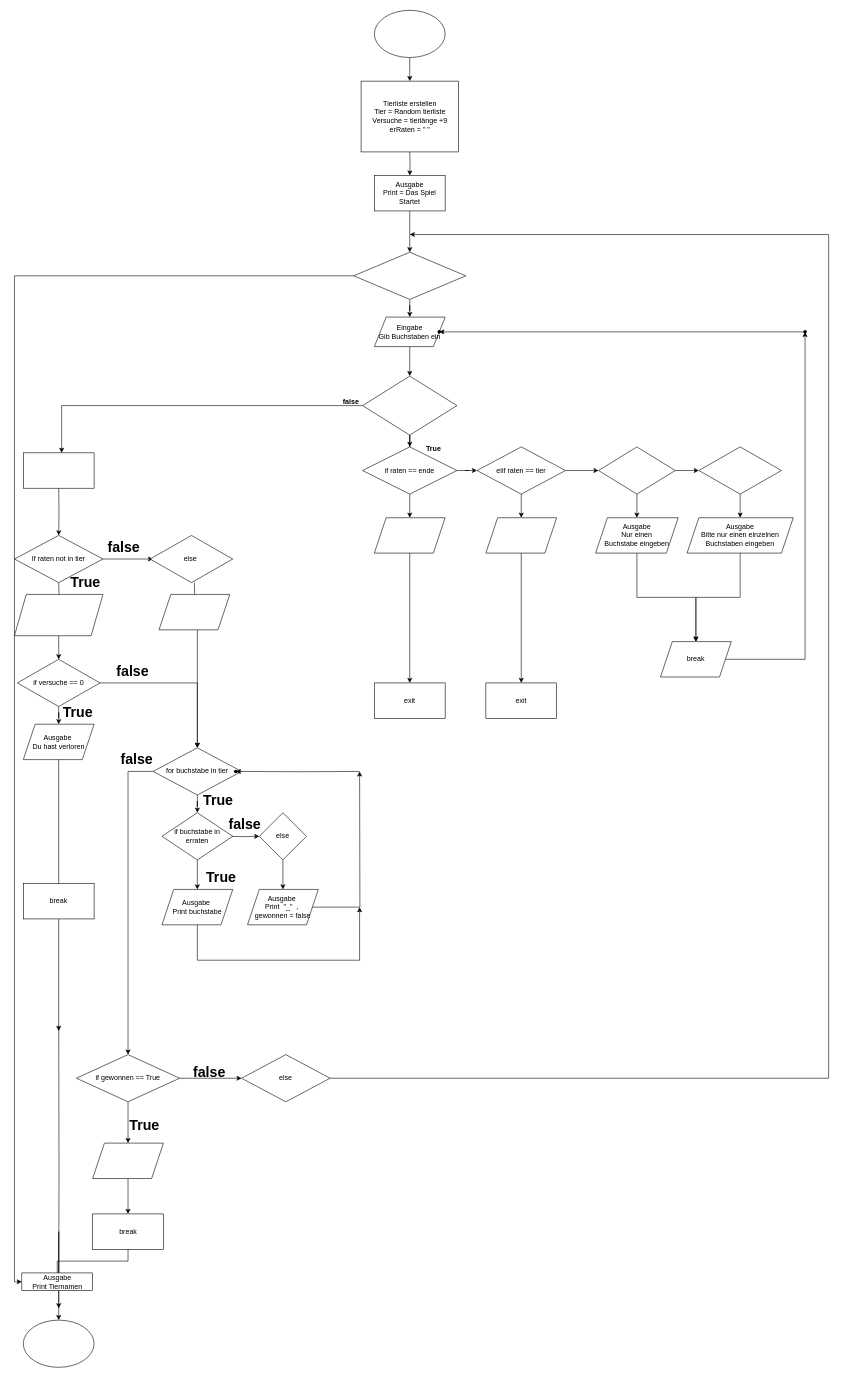
Image size: 844x1378. Some labels were removed from this diagram. The shapes that lost their labels are listed below. From the top down, each one's centre as x and y in pixels, then its label:
At pixel 409 34: "Start".
At pixel 409 275: "While versuche != 0".
At pixel 409 405: "While not alpha oder länger >1".
At pixel 58 470: "erraten = erraten + raten gewonnen = True".
At pixel 636 470: "elif not raten is alpha".
At pixel 739 470: "elif länge raten ist länger >1".
At pixel 409 535: "Ausgabe Ende".
At pixel 521 535: "Ausgabe Print Gewonnen".
At pixel 58 615: "Ausgabe versuche -= 1 Versuche es weiter".
At pixel 194 612: "Ausgabe Du hast richtig geraten".
At pixel 127 1161: "Ausgabe Du hast Gewonnen".
At pixel 58 1343: "Ende".
